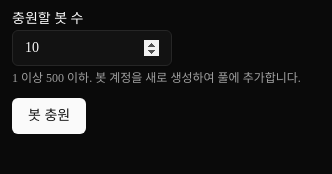
Test: ProvisionPoolForm › 501 입력 시 검증 차단
Replace the text in the number field labelled "충원할 봇 수" with "501" at (92, 48), box x1=12 y1=30 x2=172 y2=66
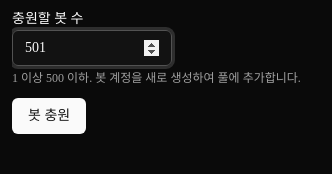
Click the button "봇 충원" at (49, 116), box x1=12 y1=98 x2=86 y2=134
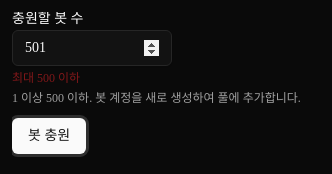
Now the text "최대 500 이하" is shown, box x1=12 y1=71 x2=80 y2=85
